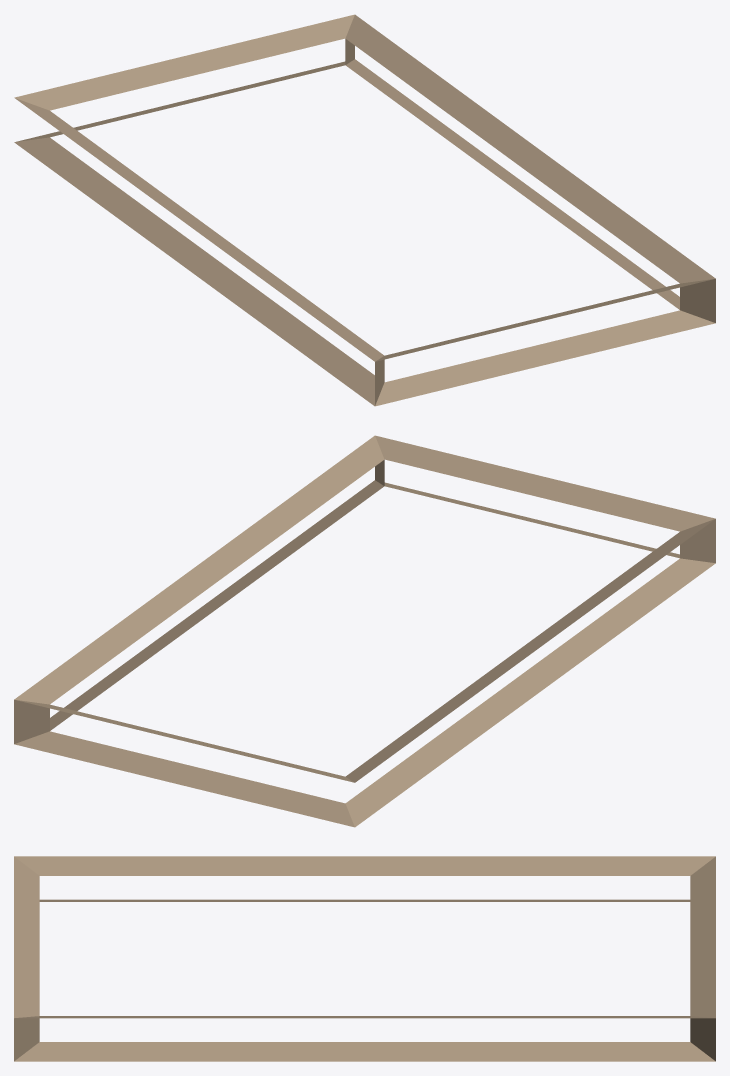
3 renders of one model, top to bottom at view 1: azimuth 30°, elevation 25°; view 2: azimuth 150°, elevation 25°; view 3: azimuth 270°, elevation 25°, orthographic. The views are drawn at different scales.
Visible parts, largest first — view 1: door_residential_production_run001; view 2: door_residential_production_run001; view 3: door_residential_production_run001.
Boxes of the visible parts, box(x1,y1,x2,y2) form: door_residential_production_run001: box(14, 14, 715, 406); door_residential_production_run001: box(14, 435, 715, 827); door_residential_production_run001: box(14, 856, 715, 1061).
Bounding box in the file's own units: 1.2 × 0.15 × 2.2.
